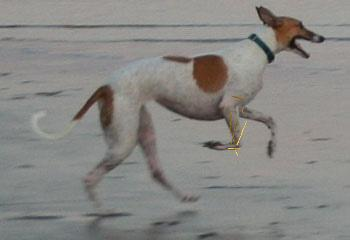tampered: (229, 97, 248, 156)
